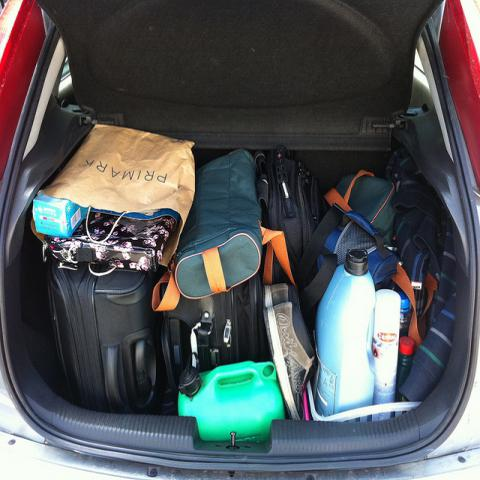car: (2, 1, 479, 474)
